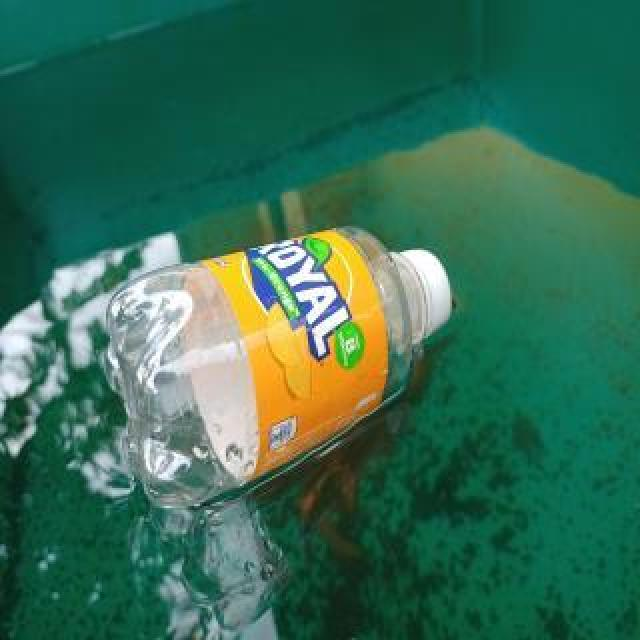bottle: (98, 216, 460, 516)
